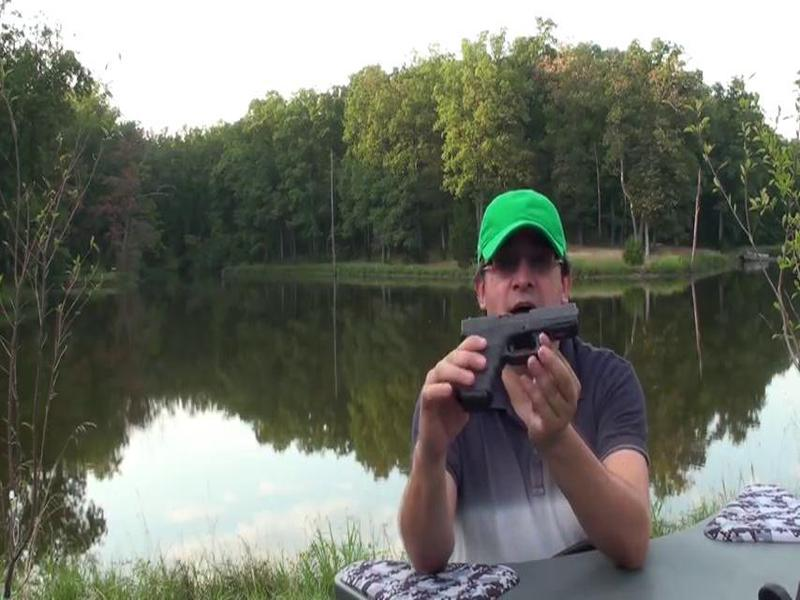Pistola: (422, 288, 588, 433)
